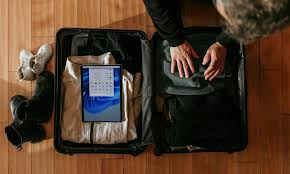suitcase: (53, 26, 248, 157)
